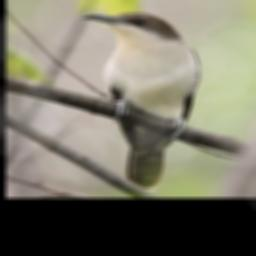Cuckoo: (81, 12, 201, 192)
